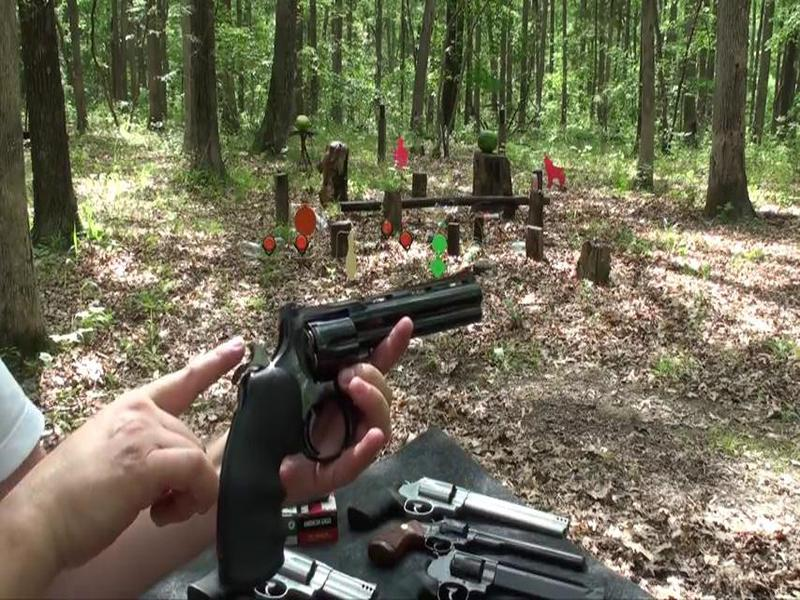Revolver: (196, 266, 491, 600)
